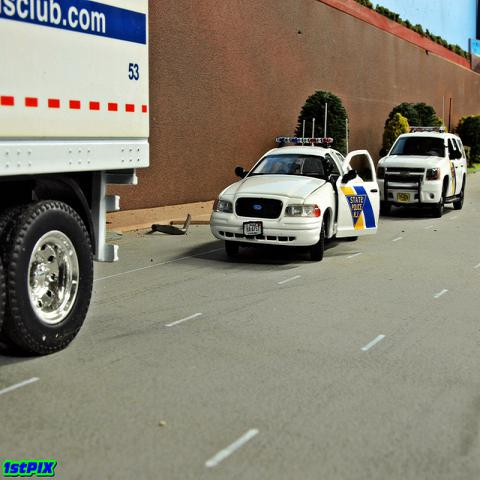car: (210, 103, 380, 261)
truck: (0, 0, 150, 363), (375, 127, 467, 218)
